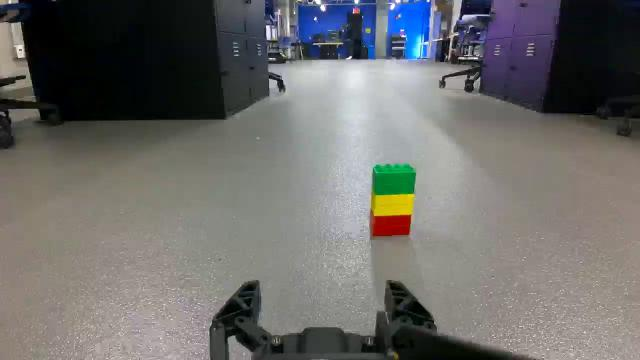lego: (372, 165, 412, 234)
